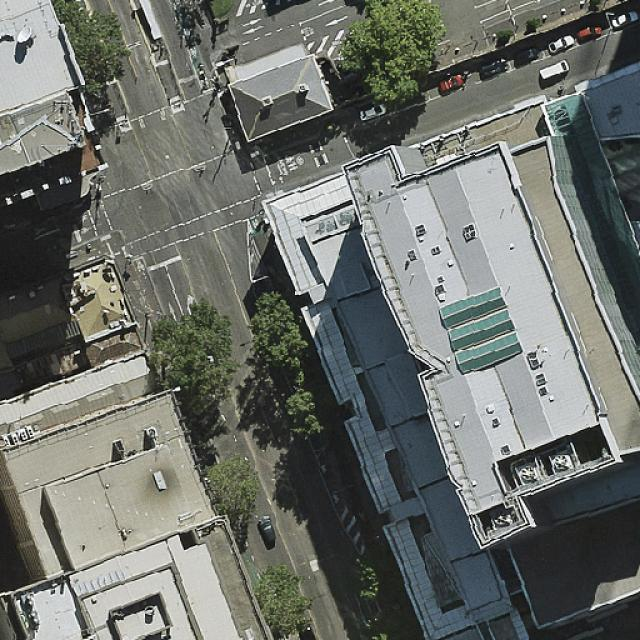Bike-Symbols: (134, 261, 146, 272), (250, 219, 261, 230), (76, 214, 88, 224), (189, 46, 199, 57), (80, 226, 92, 234)
